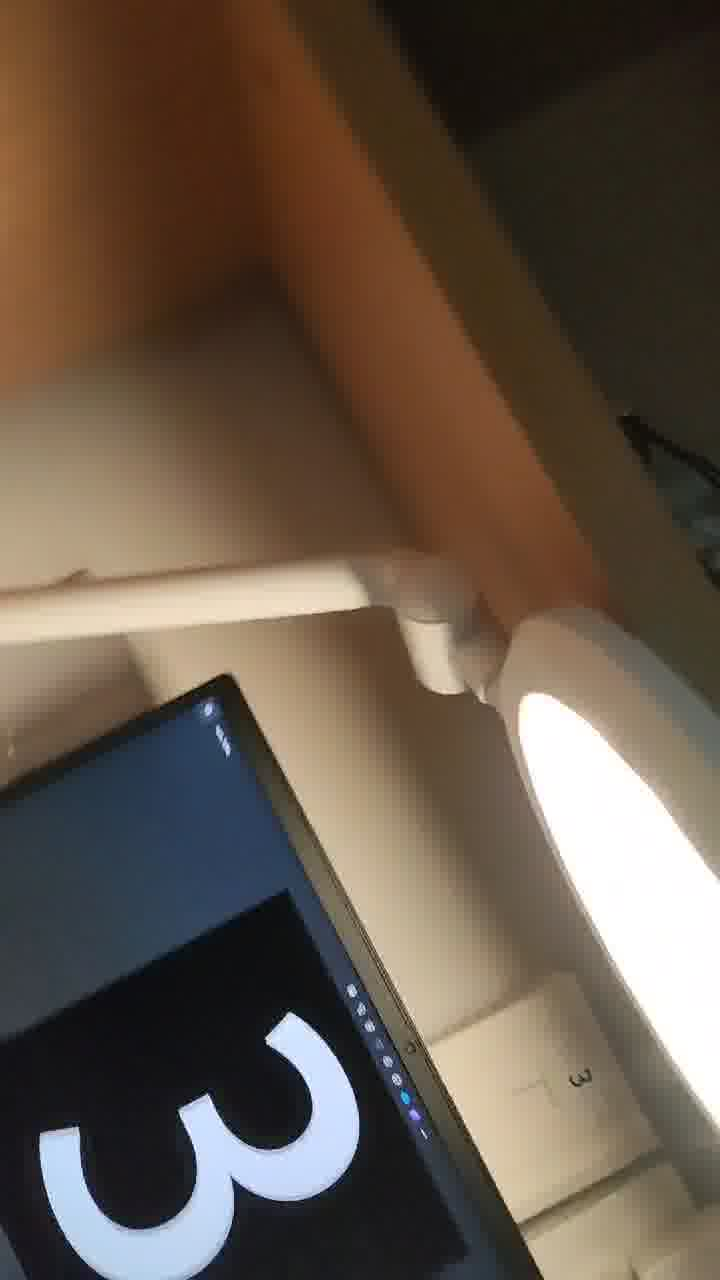three: (1, 999, 437, 1267)
